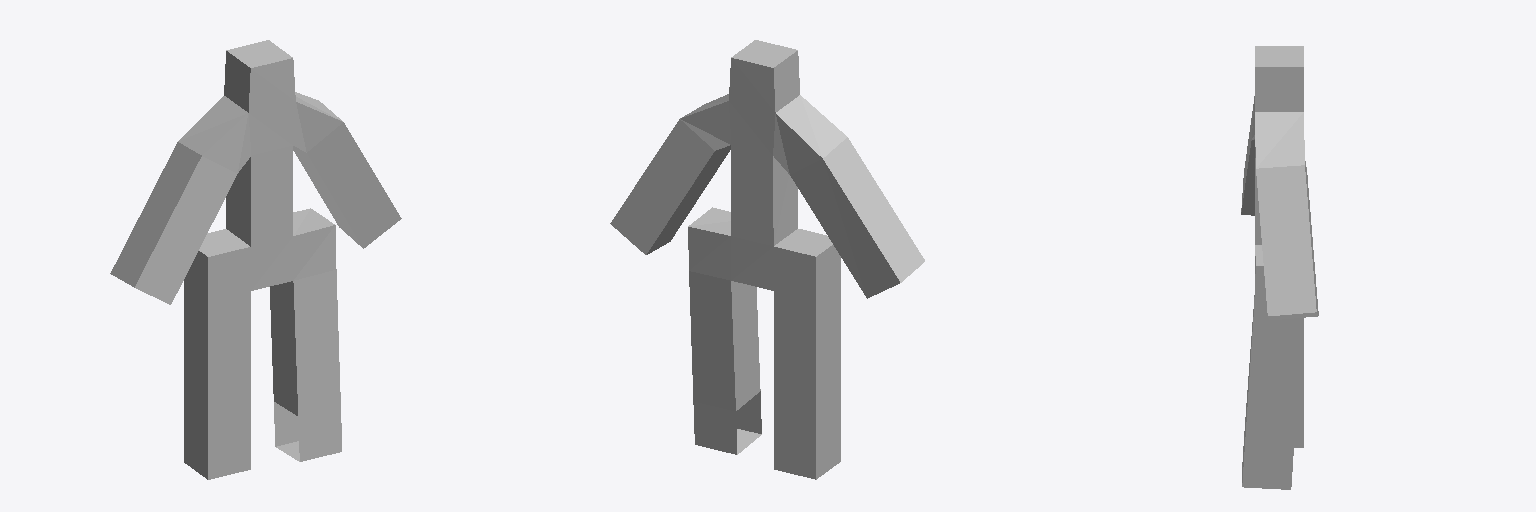
The model's file is cuboid_000002.obj.
The picture shows the model from 3 angles: view 1: azimuth 30°, elevation 25°; view 2: azimuth 150°, elevation 25°; view 3: azimuth 270°, elevation 25°; orthographic projection.
Parts seen in each view (by area): view 1: Cube; view 2: Cube; view 3: Cube.
Boxes of the visible parts, <box> form: Cube: <box>110,40,401,479</box>; Cube: <box>610,40,924,479</box>; Cube: <box>1241,46,1318,489</box>.
Bounding box in the file's own units: 3.28 × 4.51 × 0.7907.